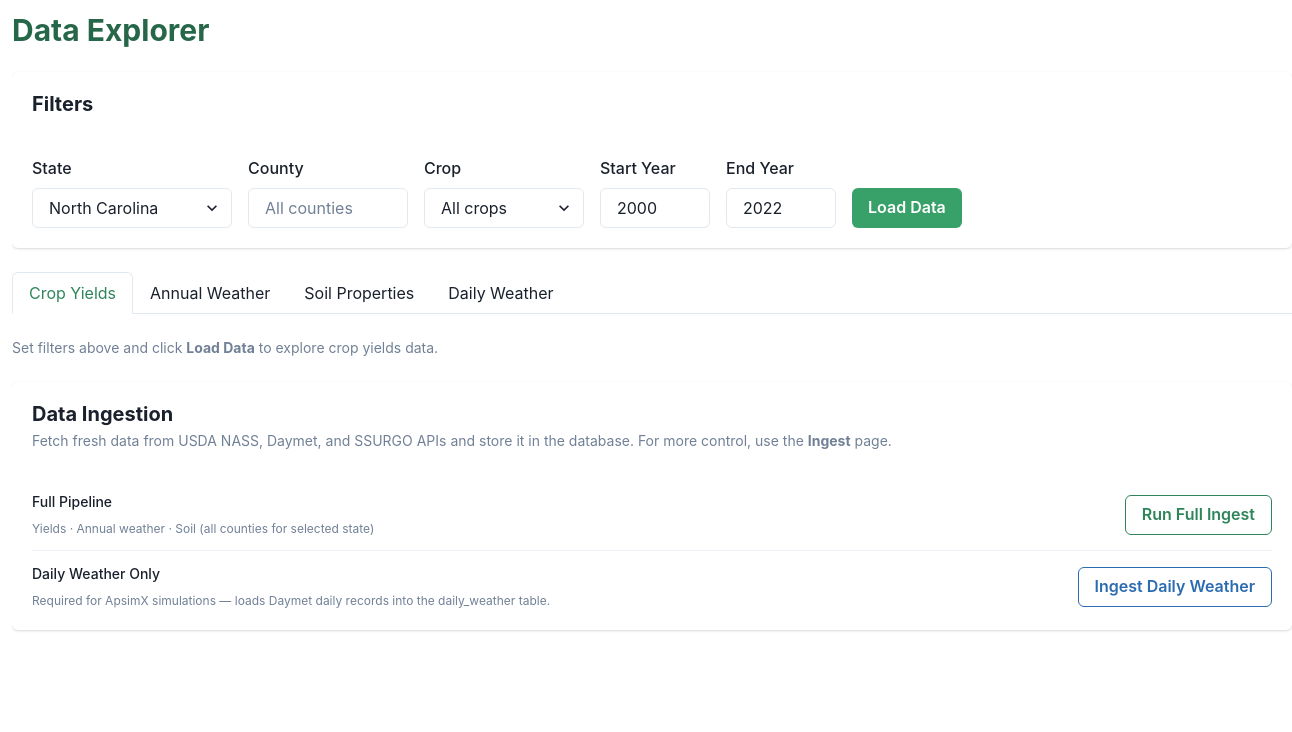
Data Explorer – loading data › shows results table after clicking Load Data (yields tab)
The width and height of the screenshot is (1292, 732).
Expected: the tab "Crop Yields" is shown, [12,272,133,314]
Step 1. Click the button "Load Data" → [907, 208], box [852,188,962,228]
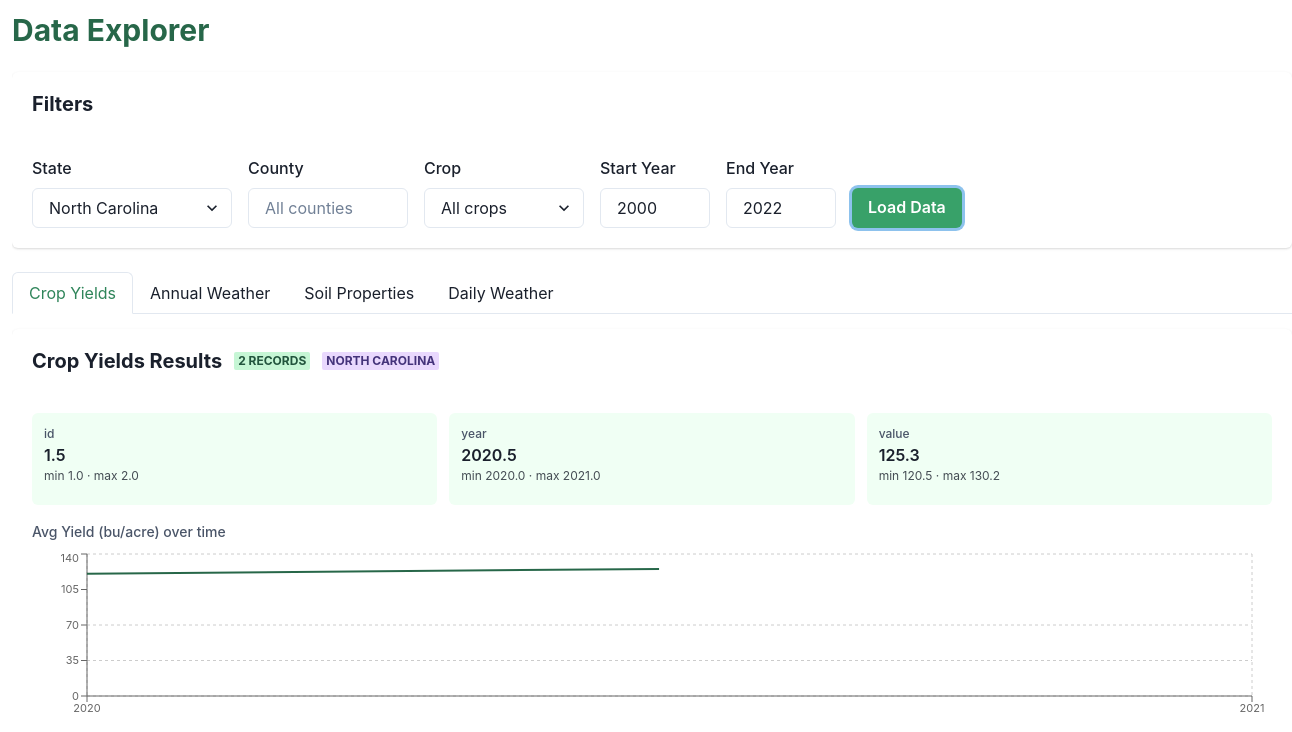
Expected: the text "2 records" is shown, [234,352,310,370]
